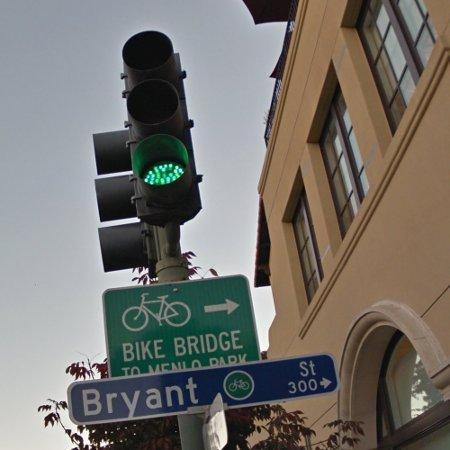traffic lights: (118, 30, 202, 227), (93, 124, 161, 277), (243, 1, 301, 31)
